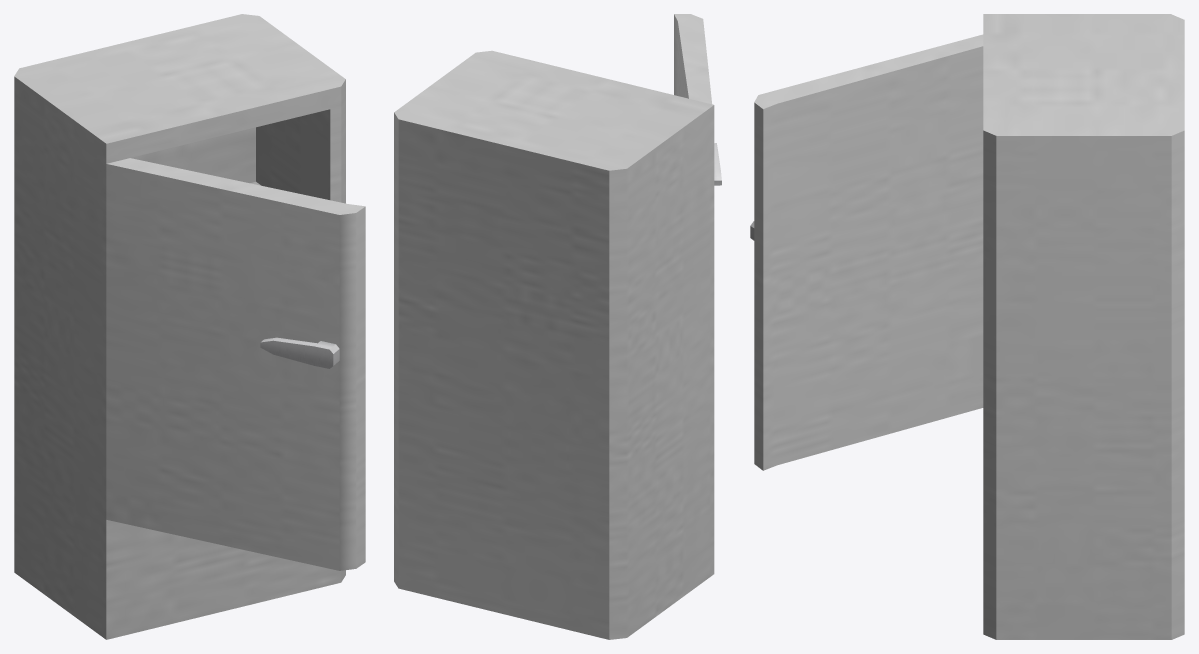
File: fridge_model.fbx
3 renders of one model, left to right at view 1: azimuth 30°, elevation 25°; view 2: azimuth 150°, elevation 25°; view 3: azimuth 270°, elevation 25°, orthographic. The views are drawn at different scales.
Visible parts, largest first — view 1: pCube3; view 2: pCube3; view 3: pCube3.
Boxes of the visible parts, x1,y1,x2,y2 form: pCube3: [14, 14, 365, 639]; pCube3: [394, 14, 721, 639]; pCube3: [750, 14, 1184, 639].
Bounding box in the file's own units: 0.1619 × 0.3123 × 0.2439.
